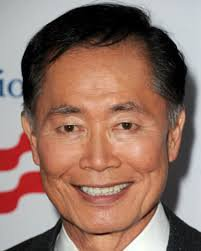noMask: (14, 1, 194, 235)
